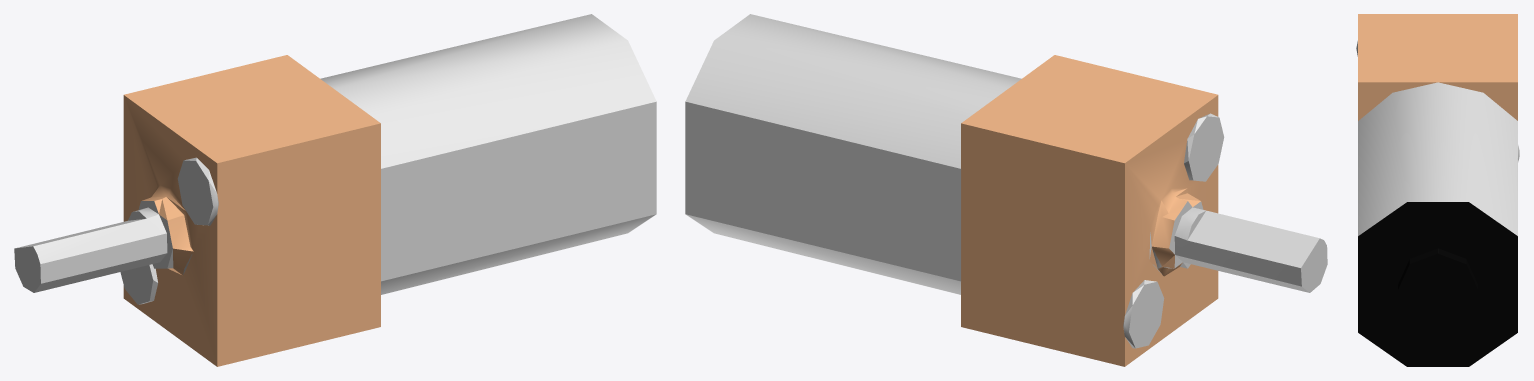
File: SM_motor.fbx
The picture shows the model from 3 angles, left to right: view 1: azimuth 30°, elevation 25°; view 2: azimuth 150°, elevation 25°; view 3: azimuth 270°, elevation 25°; orthographic projection. The views are drawn at different scales.
Visible parts, largest first — view 1: motor.001; view 2: motor.001; view 3: motor.001.
Part boxes in pixels (x1,y1,x2,y2): motor.001: [14, 14, 656, 366]; motor.001: [685, 14, 1327, 366]; motor.001: [1356, 14, 1519, 366].
Size of the model in its own units: 3.67 by 1.2 by 1.02.
1 material, 1 textured.
